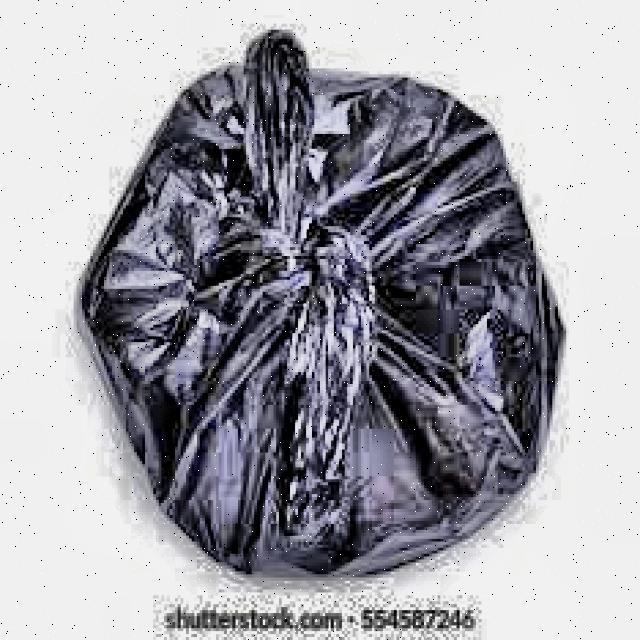Trashbag: (68, 25, 575, 592)
